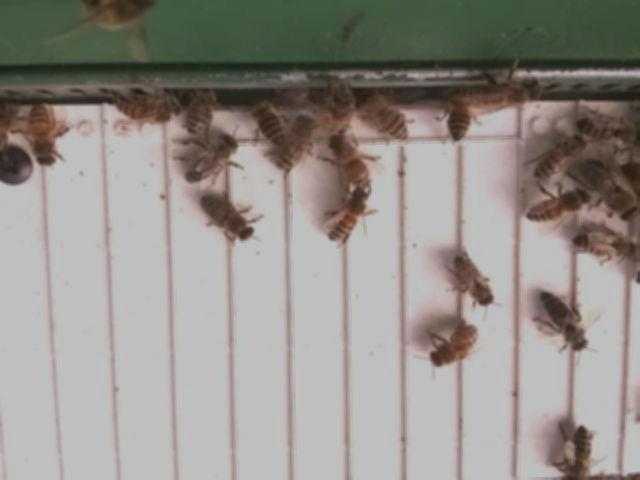Drone: (579, 154, 640, 225)
Worker: (539, 288, 592, 356), (200, 192, 259, 246), (179, 132, 240, 184), (530, 134, 589, 184), (273, 110, 319, 174), (569, 226, 640, 264), (364, 91, 414, 143), (454, 252, 497, 312), (526, 187, 593, 225), (430, 323, 484, 370), (327, 187, 370, 246), (330, 130, 373, 189), (27, 102, 62, 173), (572, 112, 640, 148), (113, 94, 182, 129), (246, 93, 286, 147), (561, 423, 597, 480), (184, 89, 218, 136)
